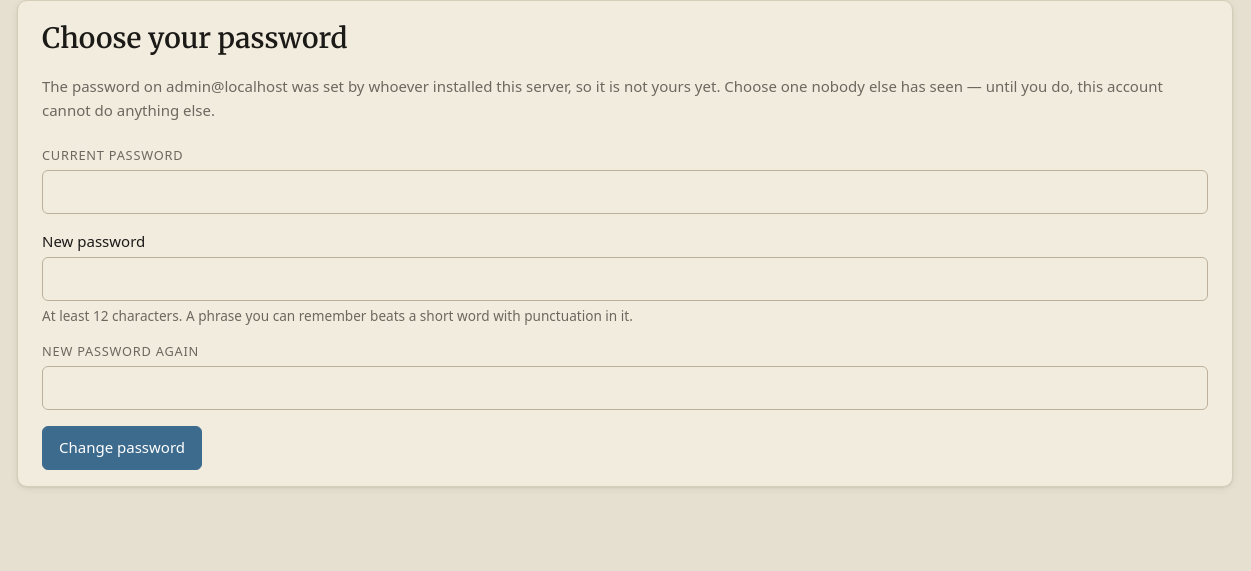
Scenario: checks that cost a keystroke instead of a round trip › refuses keeping the password somebody else chose
Type "the same long password" into the password field labelled "Current password" at (625, 192), box [42,170,1208,214]
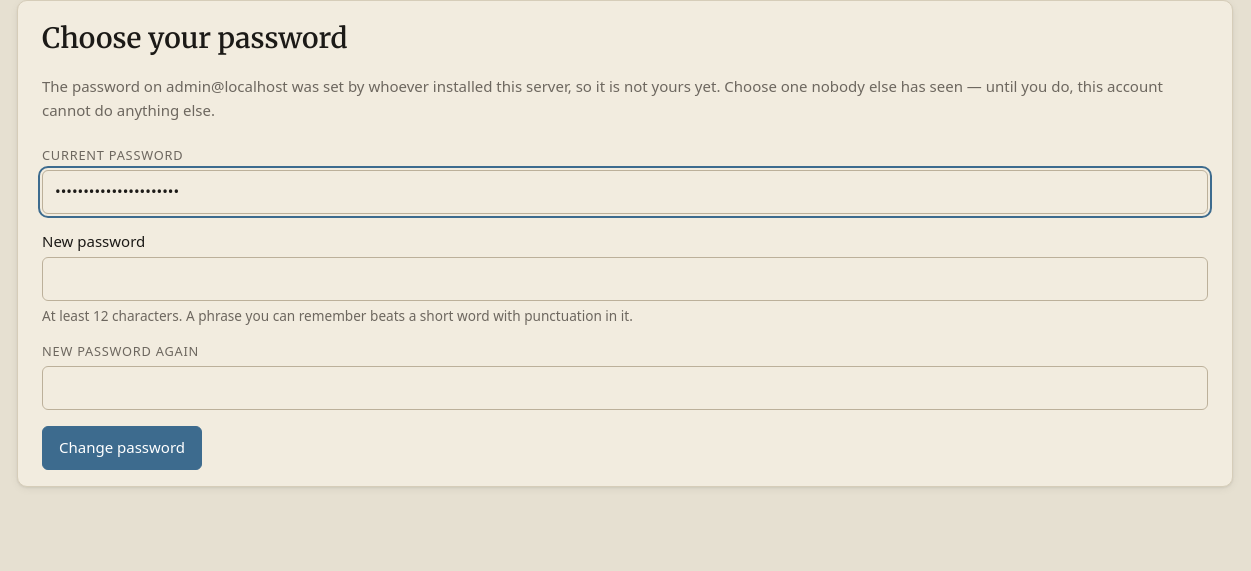
Type "the same long password" into the password field labelled "New password" at (625, 279), box [42,257,1208,301]
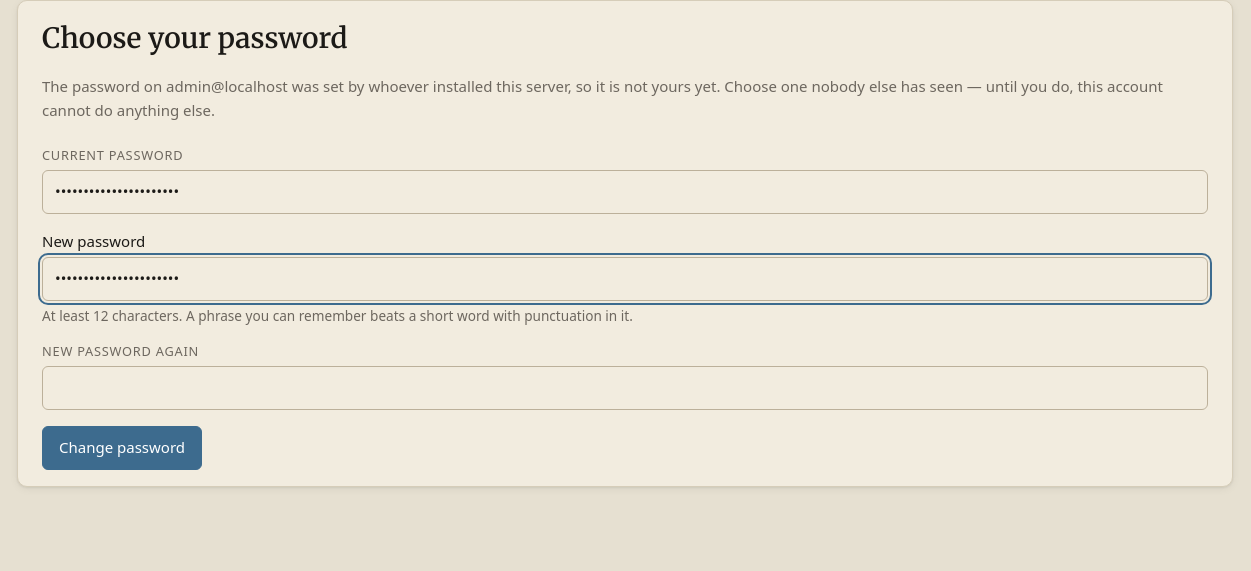
Type "the same long password" into the password field labelled "New password again" at (625, 388), box [42,366,1208,410]
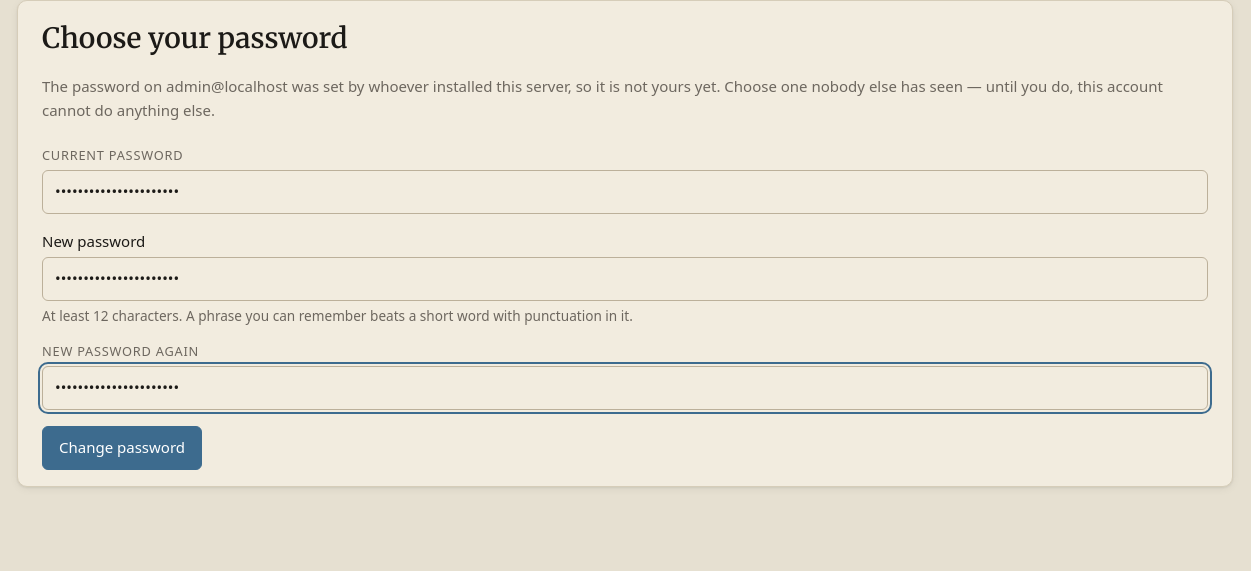
Click the button "Change password" at (122, 448), box [42,426,202,470]
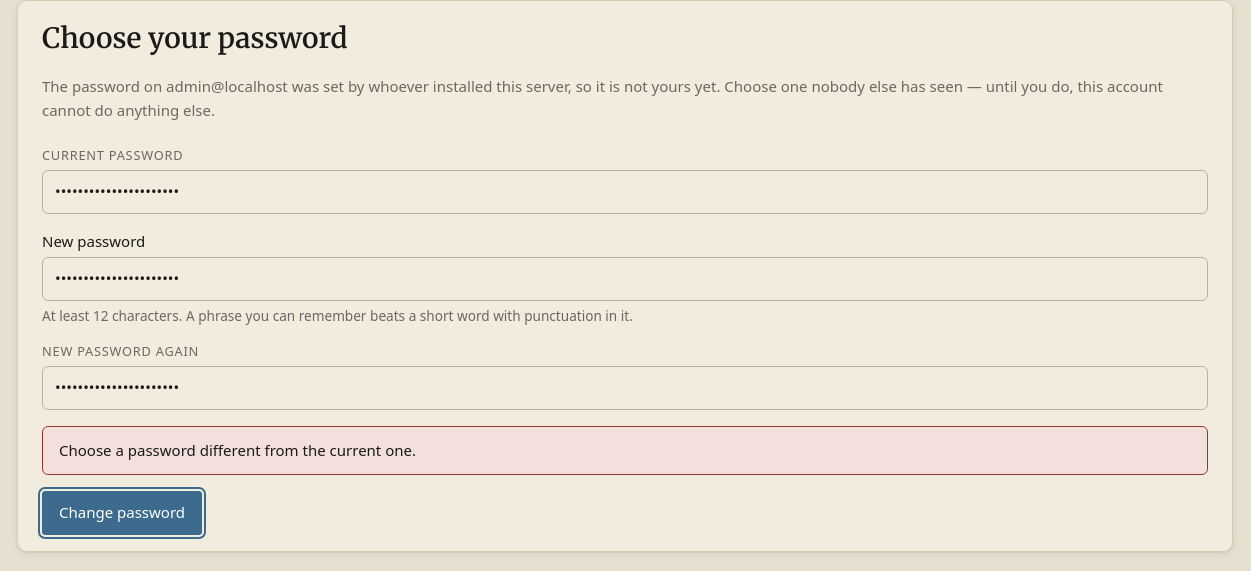
expect the message shows "different from the current one": met, box [59,440,416,460]
